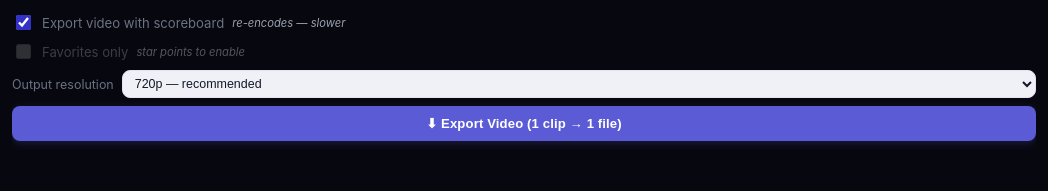
Test: VideoExporter › hides export button and shows progress while running
Step 1. Click the button "⬇ Export Video (1 clip → 1 file)" → (524,124), box [12,106,1036,141]
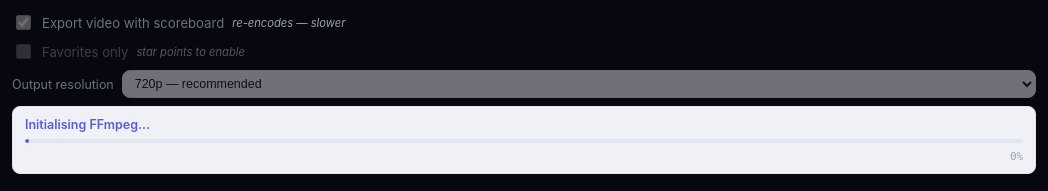
Expected: the text "Initialising FFmpeg…" is shown, [25,117,150,132]
